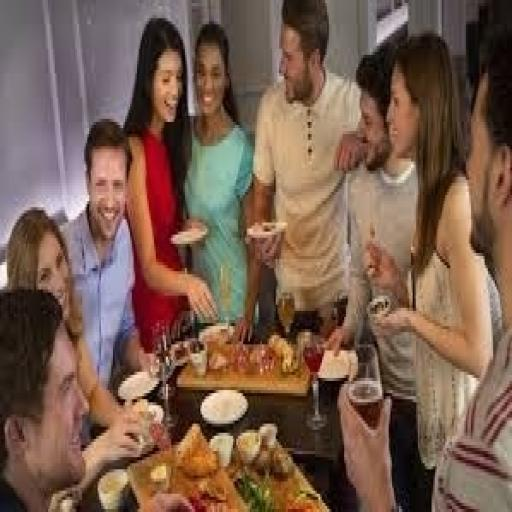eating: (4, 3, 508, 506)
